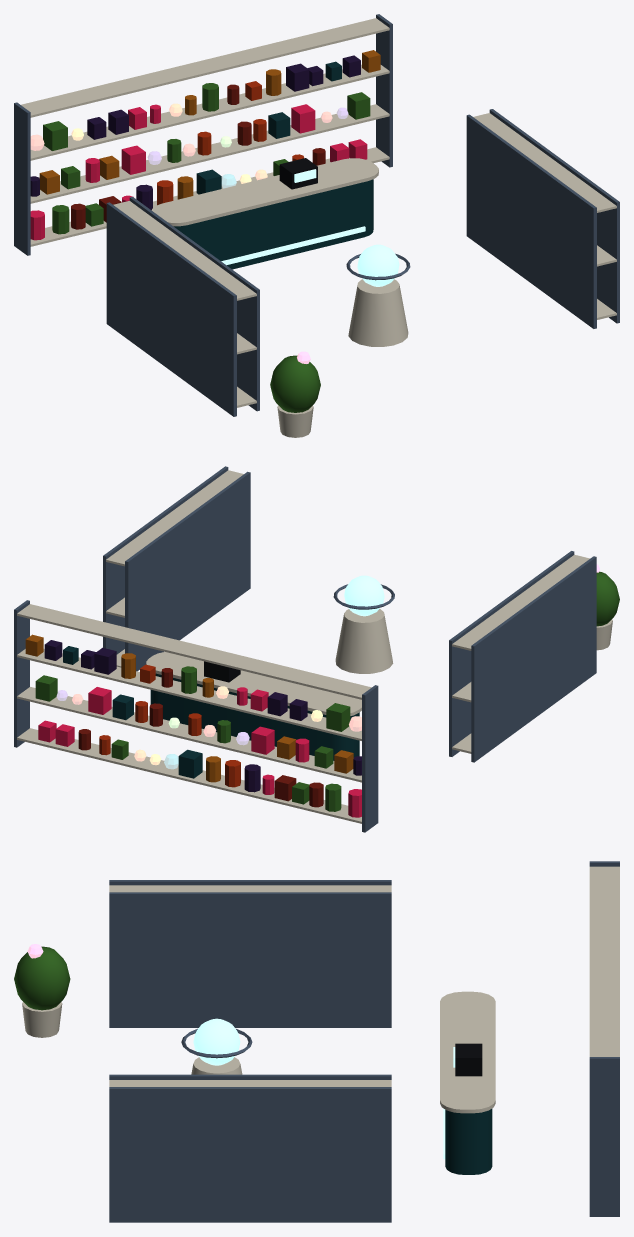
The model's file is fit_shop_2.glb.
3 renders of one model, top to bottom at view 1: azimuth 30°, elevation 25°; view 2: azimuth 150°, elevation 25°; view 3: azimuth 270°, elevation 25°, orthographic. The views are drawn at different scales.
Parts seen in each view (by area): view 1: fit_shop_2; view 2: fit_shop_2; view 3: fit_shop_2.
Boxes of the visible parts, bbox=[...] form: fit_shop_2: bbox=[14, 14, 619, 437]; fit_shop_2: bbox=[14, 466, 619, 832]; fit_shop_2: bbox=[14, 861, 619, 1222].
Bounding box in the file's own units: 7.36 × 2.6 × 9.02.
